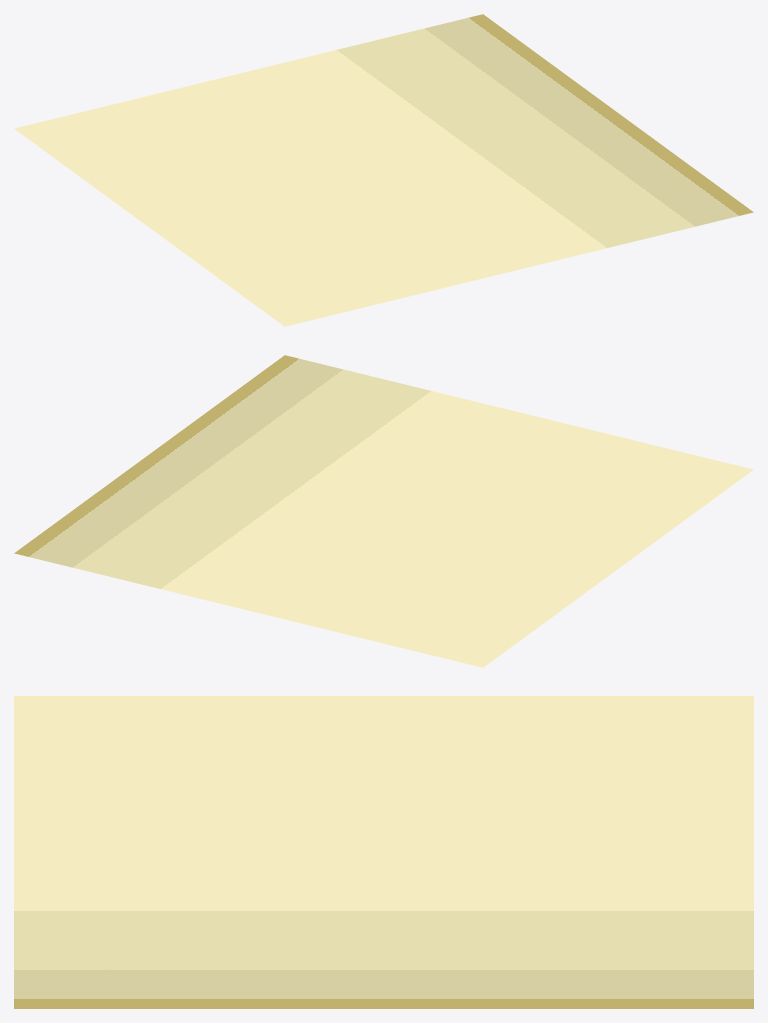
3 renders of one model, top to bottom at view 1: azimuth 30°, elevation 25°; view 2: azimuth 150°, elevation 25°; view 3: azimuth 270°, elevation 25°, orthographic. The views are drawn at different scales.
Size of the model in its own units: 1 by 0 by 1.
1 material, 1 textured.
